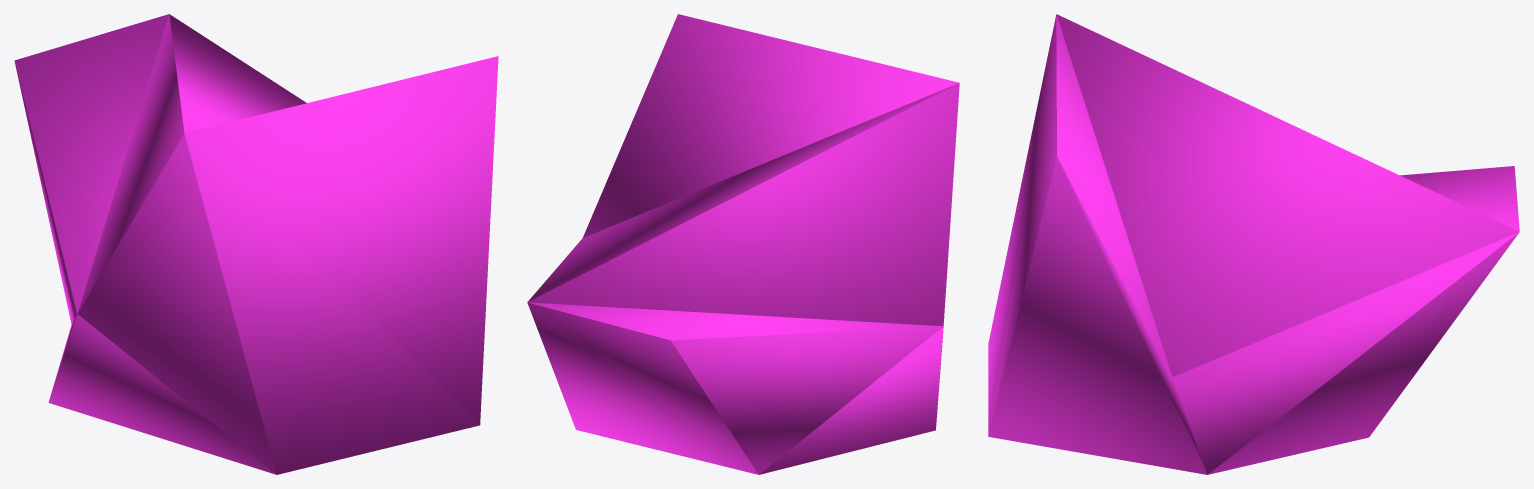
The picture shows the model from 3 angles, left to right: view 1: azimuth 30°, elevation 25°; view 2: azimuth 150°, elevation 25°; view 3: azimuth 270°, elevation 25°; orthographic projection. The views are drawn at different scales.
Visible parts, largest first — view 1: Mesh_0; view 2: Mesh_0; view 3: Mesh_0.
Boxes of the visible parts, left/top/right/bottom form: Mesh_0: left=14, top=14, right=498, bottom=474; Mesh_0: left=527, top=14, right=959, bottom=474; Mesh_0: left=988, top=14, right=1519, bottom=474.
Bounding box in the file's own units: 0.2068 × 0.1533 × 0.2416.
